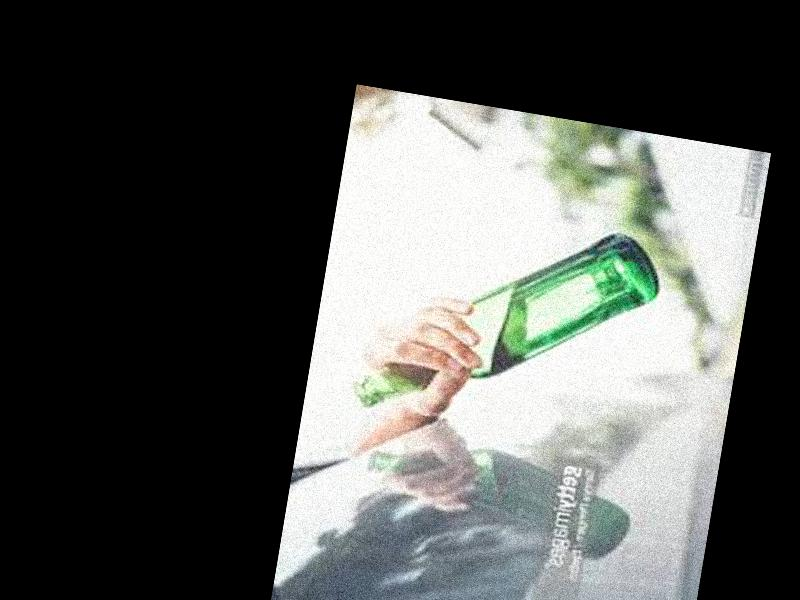Beer: (352, 197, 667, 454)
